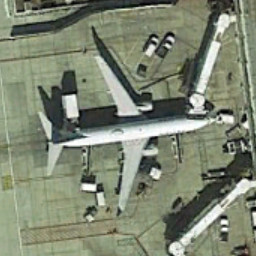Airplane: (33, 48, 219, 217)
